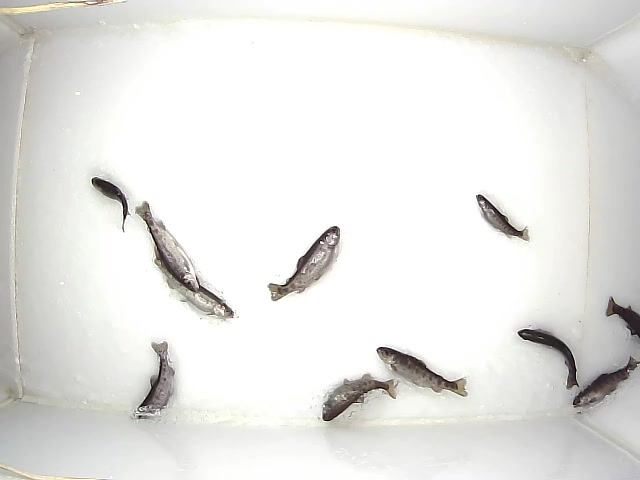fish: (154, 245, 234, 319), (135, 201, 199, 292), (302, 374, 401, 430), (268, 226, 340, 301), (376, 347, 468, 397), (517, 328, 579, 390), (573, 356, 640, 409), (133, 341, 175, 418), (476, 194, 530, 241), (91, 177, 131, 232), (606, 296, 640, 339)
